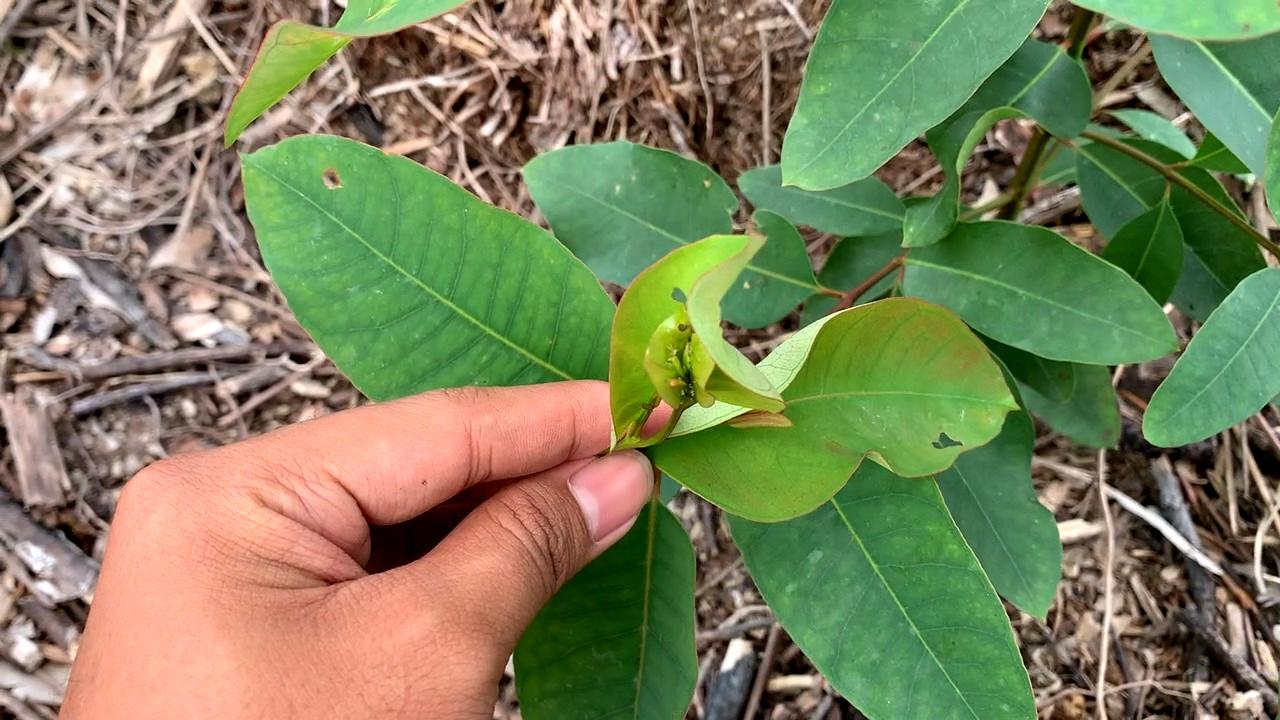Leaf Roller - Leaf: (614, 230, 787, 470)
